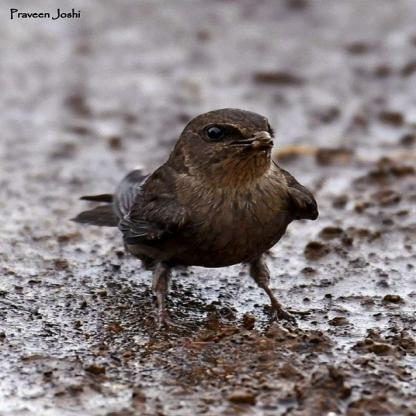Burung: (70, 109, 317, 333)
